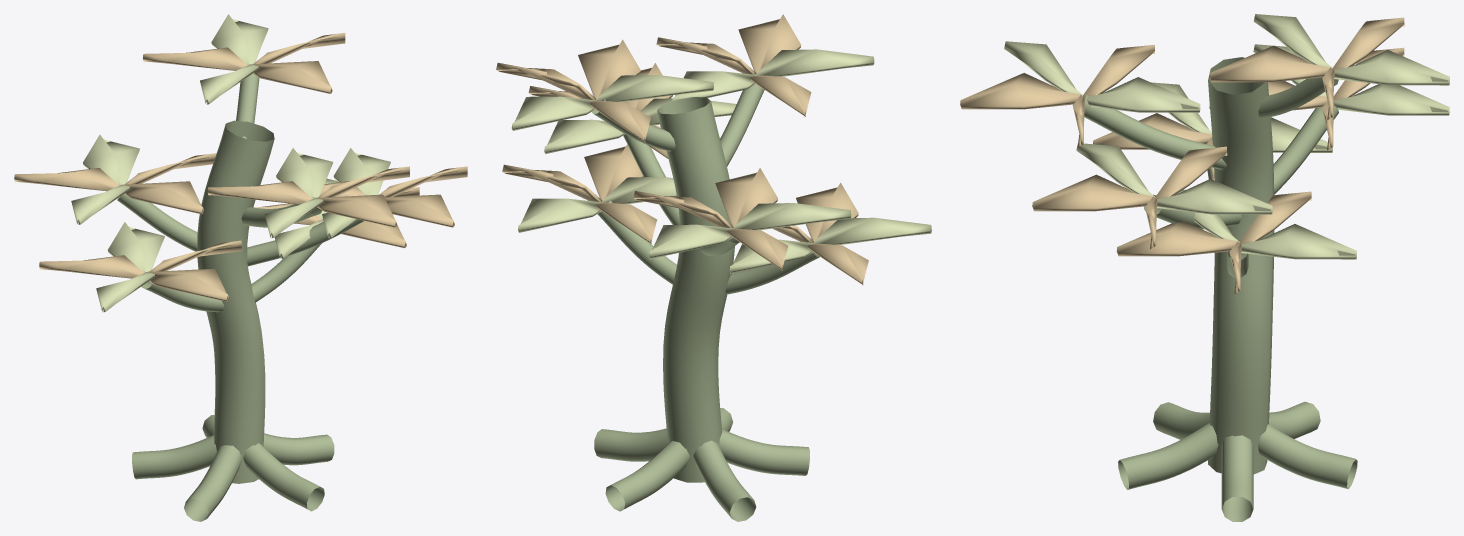
Rendered from bio_canopy_tree_01_near.glb.
The picture shows the model from 3 angles, left to right: view 1: azimuth 30°, elevation 25°; view 2: azimuth 150°, elevation 25°; view 3: azimuth 270°, elevation 25°; orthographic projection. The views are drawn at different scales.
Parts seen in each view (by area): view 1: Buttressed trunk, Broad canopy leaf.020, Broad canopy leaf.010, Broad canopy leaf.015, Broad canopy leaf.005, Broad canopy leaf.011, Broad canopy leaf.016, Broad canopy leaf.021, Broad canopy leaf.025, Broad canopy leaf.006, Broad canopy leaf.026, Broad canopy leaf (+1 smaller); view 2: Buttressed trunk, Broad canopy leaf.005, Broad canopy leaf.015, Broad canopy leaf.010, Broad canopy leaf, Broad canopy leaf.016, Broad canopy leaf.006, Broad canopy leaf.011, Broad canopy leaf.021, Broad canopy leaf.001, Broad canopy leaf.020, Broad canopy leaf.026 (+1 smaller); view 3: Buttressed trunk, Broad canopy leaf.025, Broad canopy leaf.015, Broad canopy leaf.010, Broad canopy leaf, Broad canopy leaf.016, Broad canopy leaf.026, Broad canopy leaf.011, Broad canopy leaf.001, Broad canopy leaf.006, Broad canopy leaf.021, Broad canopy leaf.005 (+1 smaller).
Boxes of the visible parts, bbox=[...] form: Buttressed trunk: bbox=[117, 74, 363, 521]; Broad canopy leaf.020: bbox=[39, 240, 241, 301]; Broad canopy leaf.010: bbox=[207, 166, 409, 227]; Broad canopy leaf.015: bbox=[143, 33, 345, 93]; Broad canopy leaf.005: bbox=[14, 153, 216, 214]; Broad canopy leaf.011: bbox=[264, 148, 333, 238]; Broad canopy leaf.016: bbox=[200, 14, 268, 104]; Broad canopy leaf.021: bbox=[96, 222, 164, 312]; Broad canopy leaf.025: bbox=[320, 166, 467, 227]; Broad canopy leaf.006: bbox=[71, 134, 139, 224]; Broad canopy leaf.026: bbox=[322, 148, 390, 238]; Broad canopy leaf: bbox=[253, 187, 419, 248]; Buttressed trunk: bbox=[592, 73, 819, 521]; Broad canopy leaf.005: bbox=[633, 168, 788, 270]; Broad canopy leaf.015: bbox=[496, 39, 650, 142]; Broad canopy leaf.010: bbox=[656, 14, 811, 117]; Broad canopy leaf: bbox=[502, 144, 657, 244]; Broad canopy leaf.016: bbox=[511, 75, 713, 130]; Broad canopy leaf.006: bbox=[649, 203, 851, 259]; Broad canopy leaf.011: bbox=[672, 49, 874, 101]; Broad canopy leaf.021: bbox=[729, 217, 931, 273]; Broad canopy leaf.001: bbox=[518, 176, 676, 232]; Broad canopy leaf.020: bbox=[773, 182, 868, 284]; Broad canopy leaf.026: bbox=[544, 98, 736, 154]; Buttressed trunk: bbox=[1084, 57, 1357, 521]; Broad canopy leaf.025: bbox=[1032, 146, 1227, 248]; Broad canopy leaf.015: bbox=[1209, 17, 1404, 120]; Broad canopy leaf.010: bbox=[960, 44, 1154, 147]; Broad canopy leaf: bbox=[1116, 191, 1311, 293]; Broad canopy leaf.016: bbox=[1253, 14, 1449, 85]; Broad canopy leaf.026: bbox=[1076, 143, 1272, 214]; Broad canopy leaf.011: bbox=[1004, 41, 1200, 112]; Broad canopy leaf.001: bbox=[1176, 189, 1356, 259]; Broad canopy leaf.006: bbox=[1253, 44, 1449, 115]; Broad canopy leaf.021: bbox=[1151, 82, 1332, 152]; Broad canopy leaf.005: bbox=[1209, 47, 1404, 150].
Size of the model in its own units: 2.97 by 2.99 by 2.93.
